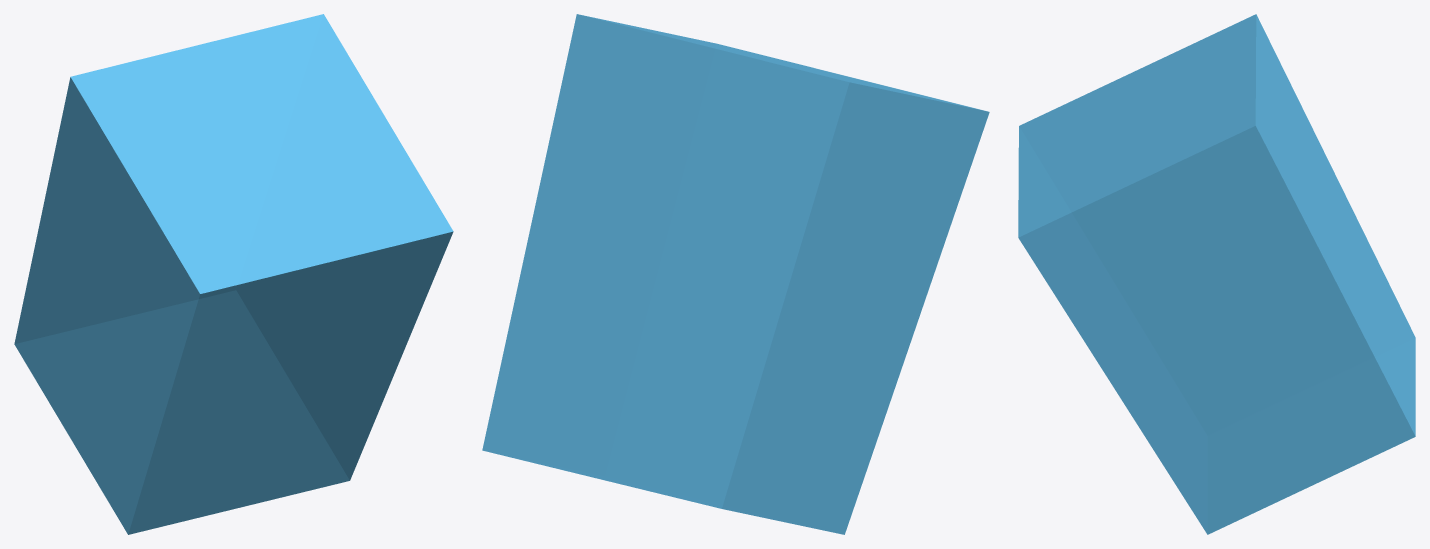
Rendered from Event_421364160_HBrechit_2.fbx.
3 renders of one model, left to right at view 1: azimuth 30°, elevation 25°; view 2: azimuth 150°, elevation 25°; view 3: azimuth 270°, elevation 25°, orthographic. The views are drawn at different scales.
Visible parts, largest first — view 1: Model; view 2: Model; view 3: Model.
Part boxes in pixels (x1,y1,x2,y2): Model: (14,14,453,534); Model: (482,14,989,534); Model: (1018,14,1415,534).
Size of the model in its own units: 0.4573 by 0.7731 by 0.6805.
